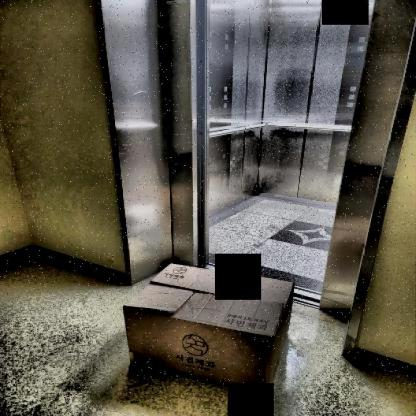box: (116, 249, 309, 405)
